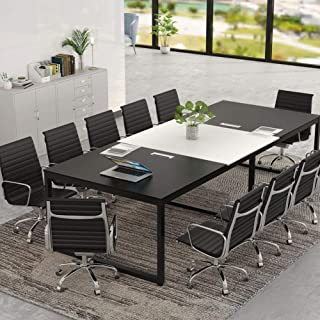conference_table: (44, 100, 320, 287)
